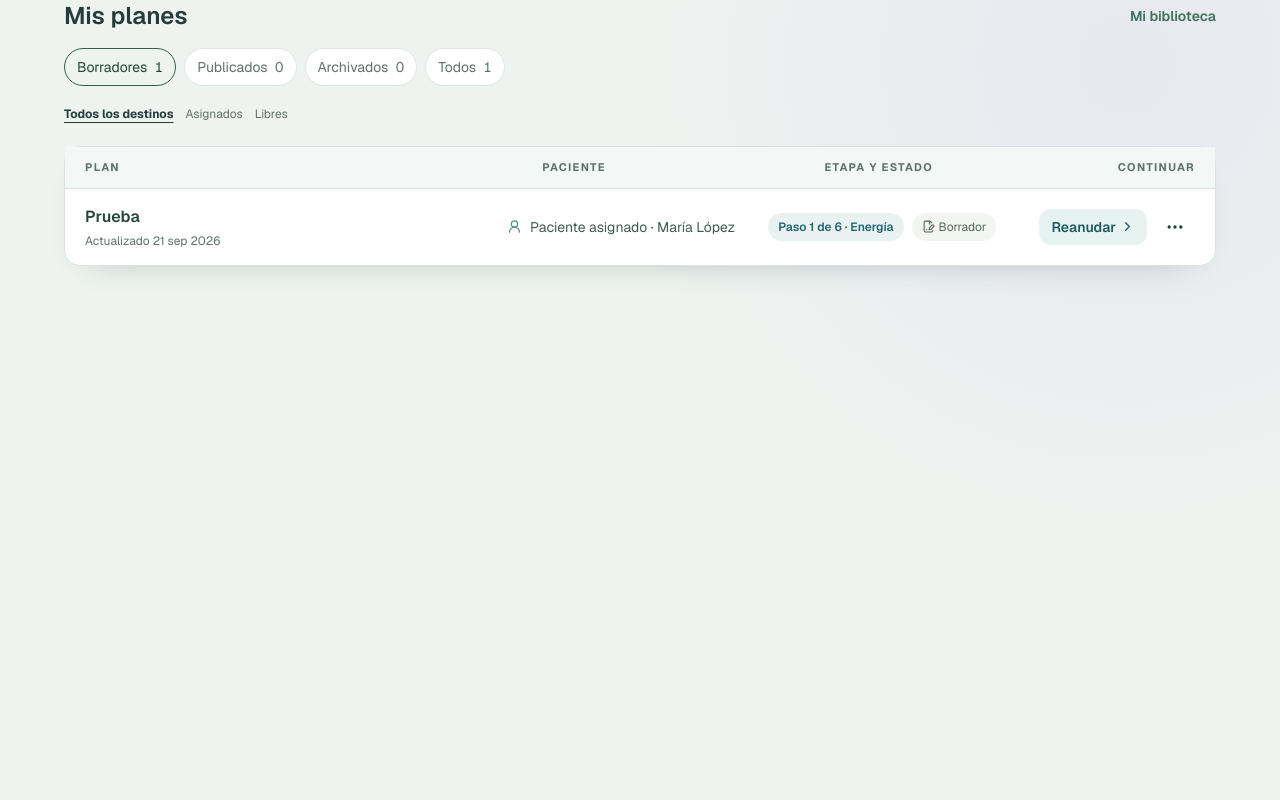
Test: plan organization › deletes only after confirmation, assigned=true
The width and height of the screenshot is (1280, 800).
Click the heading named "Acciones de Prueba".
click(1175, 226)  # box [1165,216,1185,236]
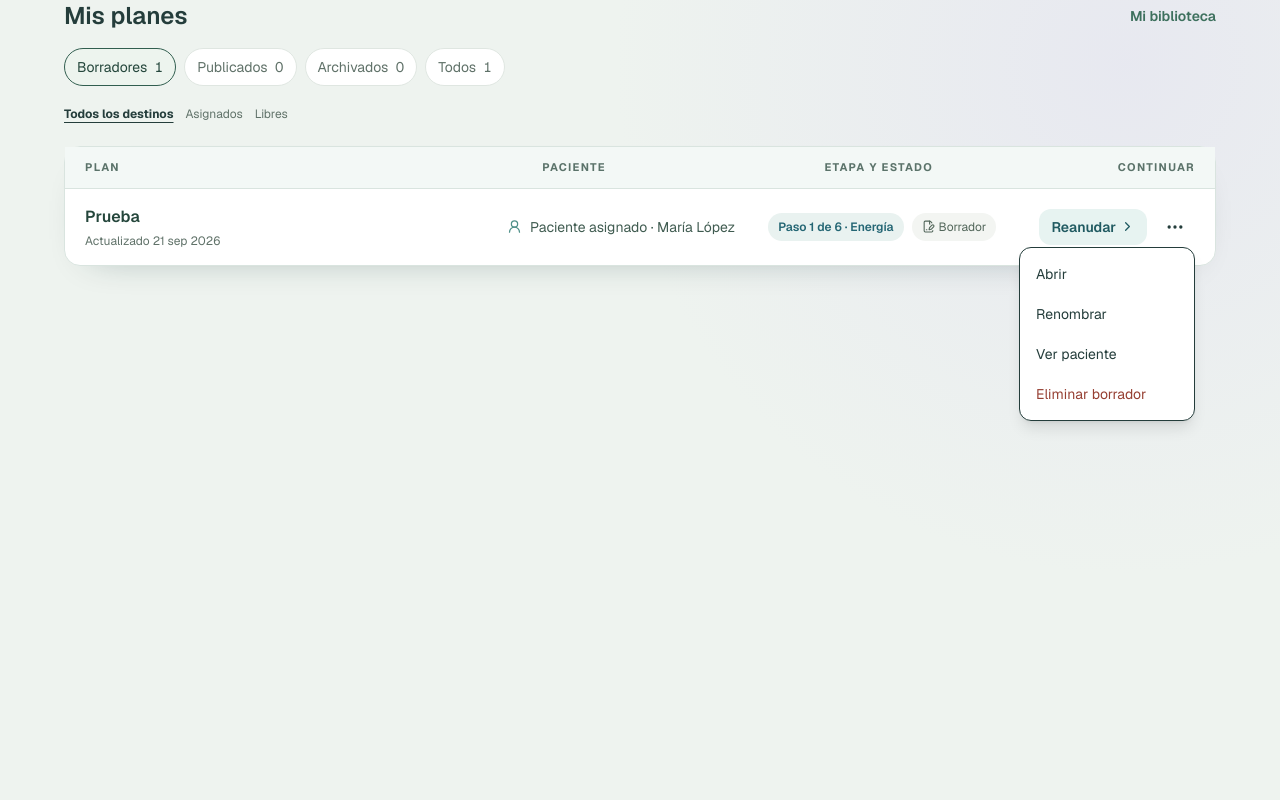
Click the button "Eliminar borrador".
click(1107, 394)  # box [1028,376,1186,412]
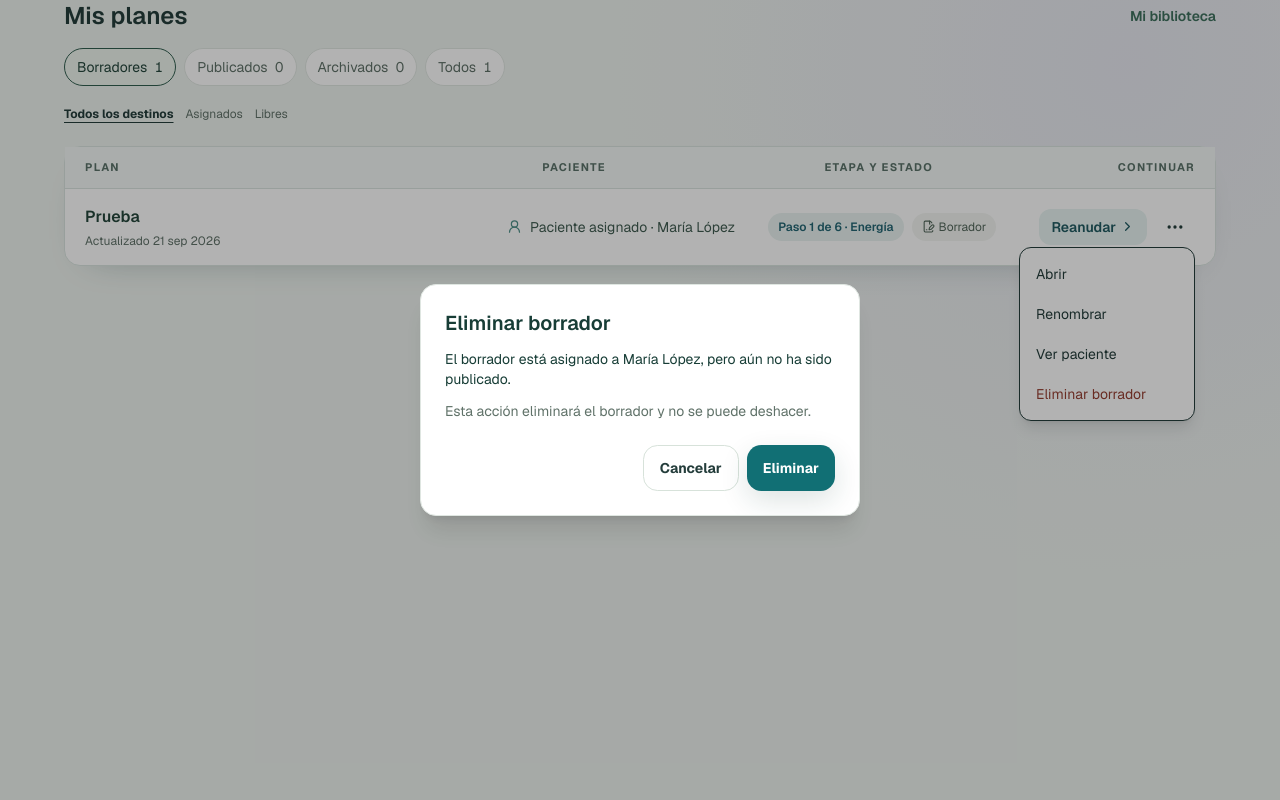
Expected: the dialog shows "María López", [445,350,832,388]
Click the button "Eliminar".
click(791, 468)  # box [747,445,835,491]
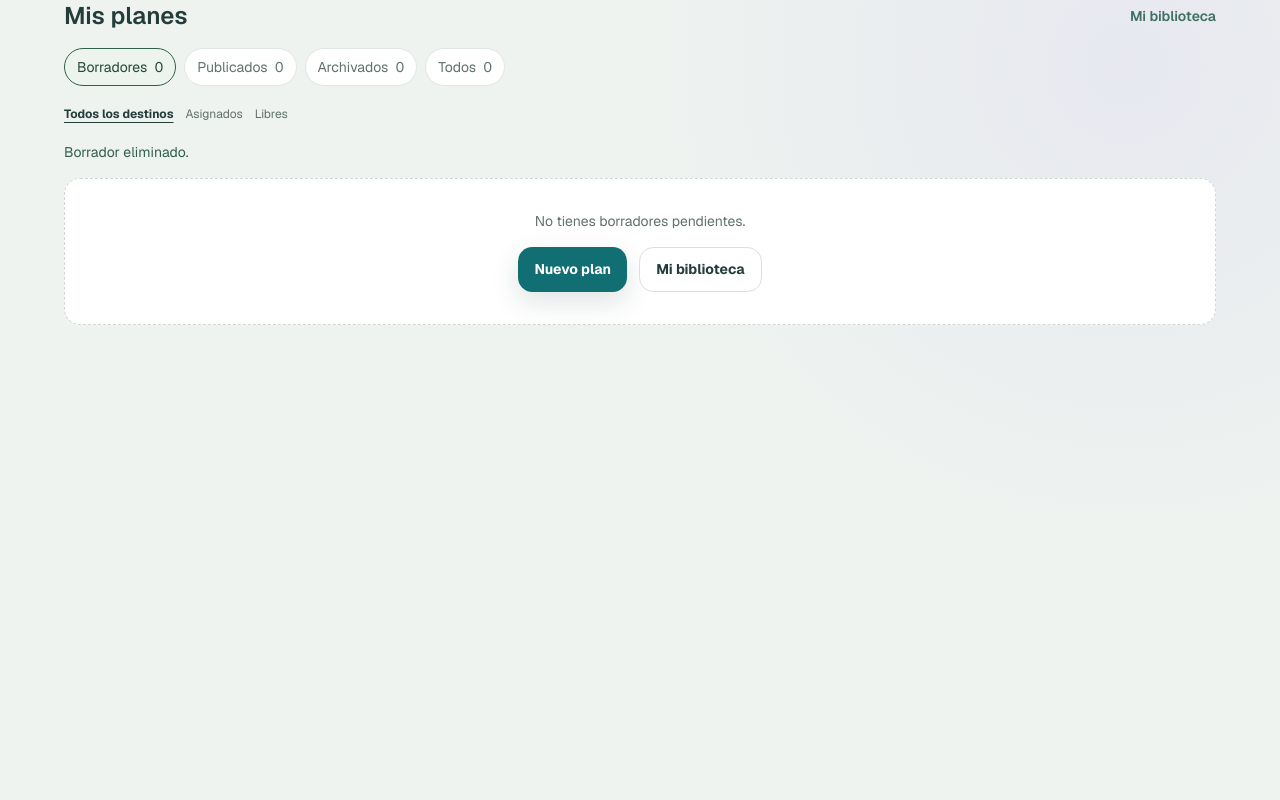
Expected: the link "Prueba" is gone
Expected: the text "No tienes borradores pendientes." is shown, [535,212,745,230]
Expected: the button "Borradores 0" is shown, [64,48,176,86]
